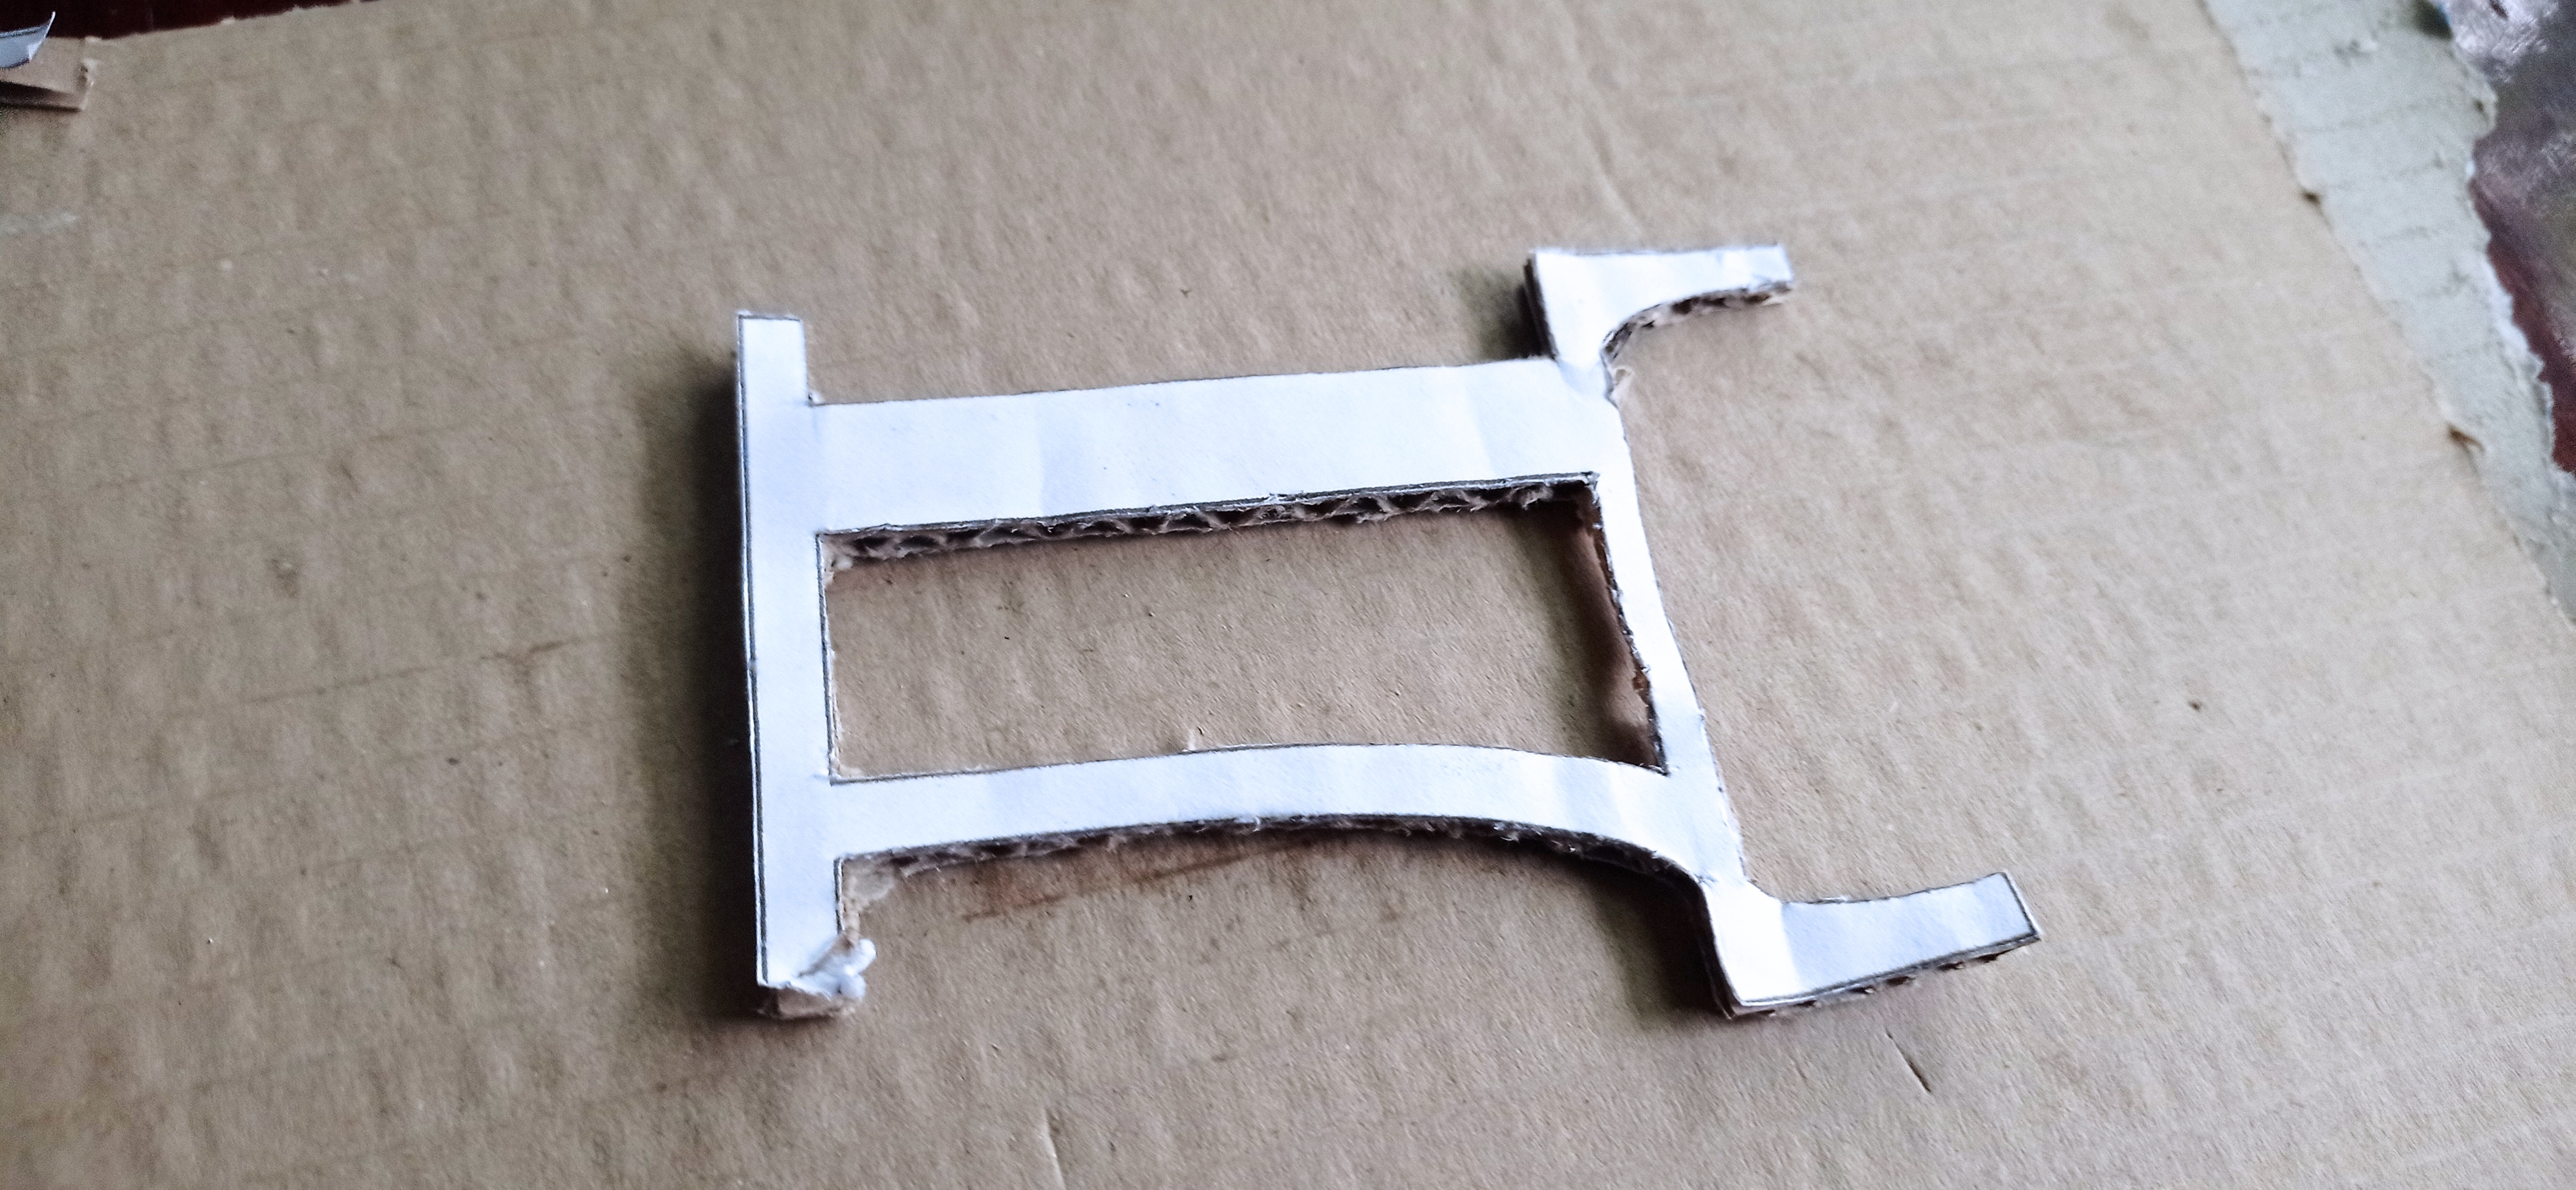d: (733, 243, 2045, 1027)
